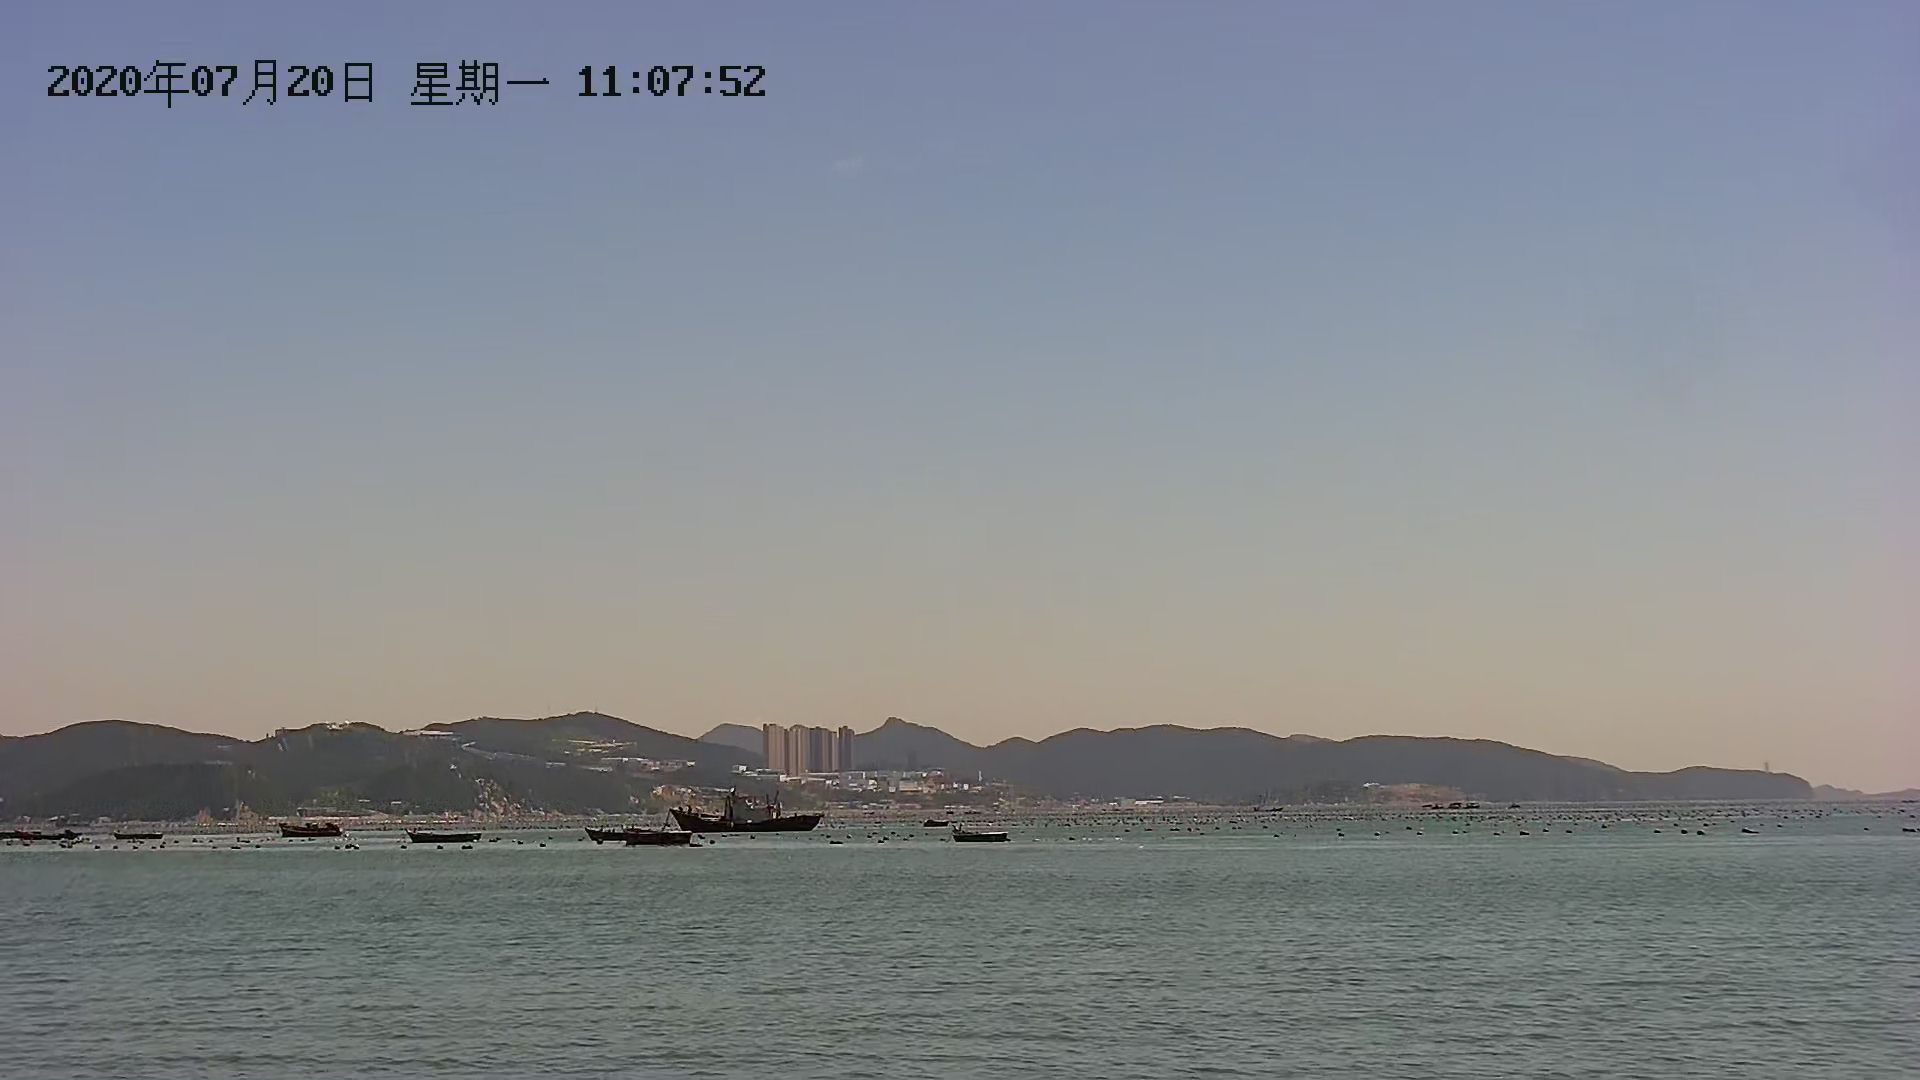boat: (671, 786, 818, 839), (401, 822, 491, 847), (592, 820, 682, 845), (948, 819, 1015, 851), (274, 820, 348, 839)
